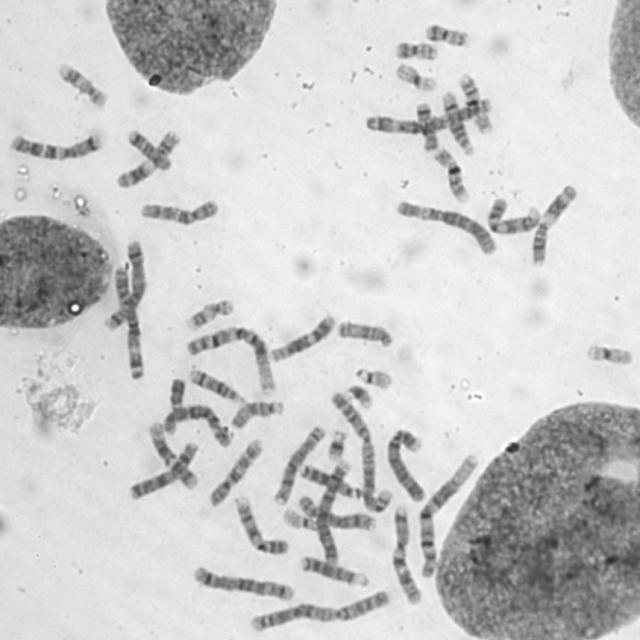A1: (415, 450, 480, 579), (182, 322, 278, 396)
A2: (326, 388, 392, 513), (245, 585, 390, 634)
A3: (361, 94, 494, 137), (110, 262, 147, 382)
B4: (314, 458, 354, 568), (382, 426, 428, 504)
B5: (101, 235, 147, 332), (190, 562, 296, 602)
C10: (205, 434, 266, 509), (136, 195, 221, 228)
C11: (113, 126, 182, 191), (528, 180, 578, 268)
C12: (145, 418, 200, 492), (266, 311, 339, 363)
C6: (391, 196, 498, 256), (160, 400, 236, 448)
C7: (388, 502, 424, 605), (6, 128, 104, 162)
C8: (270, 421, 327, 506), (295, 492, 377, 532)
C9: (232, 492, 291, 556), (484, 193, 543, 237)
D13: (297, 460, 362, 500), (299, 552, 369, 588)
D14: (439, 88, 475, 157), (186, 363, 244, 405)
D15: (335, 317, 395, 349), (228, 397, 286, 430)
E16: (429, 143, 472, 203), (456, 69, 494, 135)
E17: (54, 58, 110, 110), (183, 296, 236, 332)
E18: (124, 126, 174, 172), (413, 98, 440, 153)
F19: (581, 337, 636, 368), (393, 60, 439, 93)
F20: (422, 20, 470, 48), (392, 38, 440, 62)
G21: (342, 381, 374, 411), (326, 426, 348, 464)
G22: (351, 363, 394, 391), (280, 504, 320, 532)
X: (126, 438, 201, 502)
Y: (166, 374, 188, 409)
